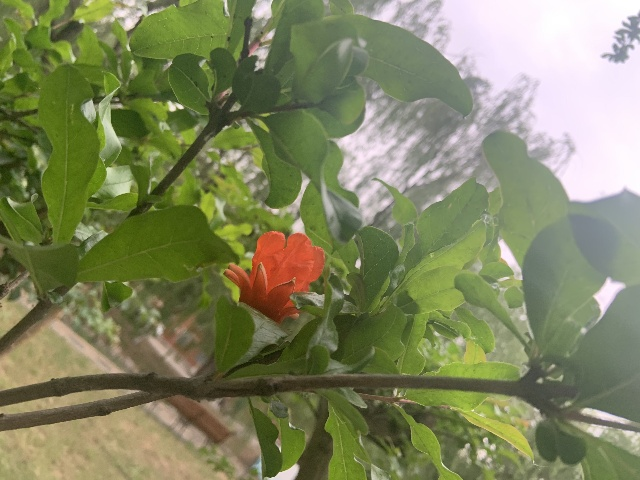flower: (223, 230, 325, 324)
